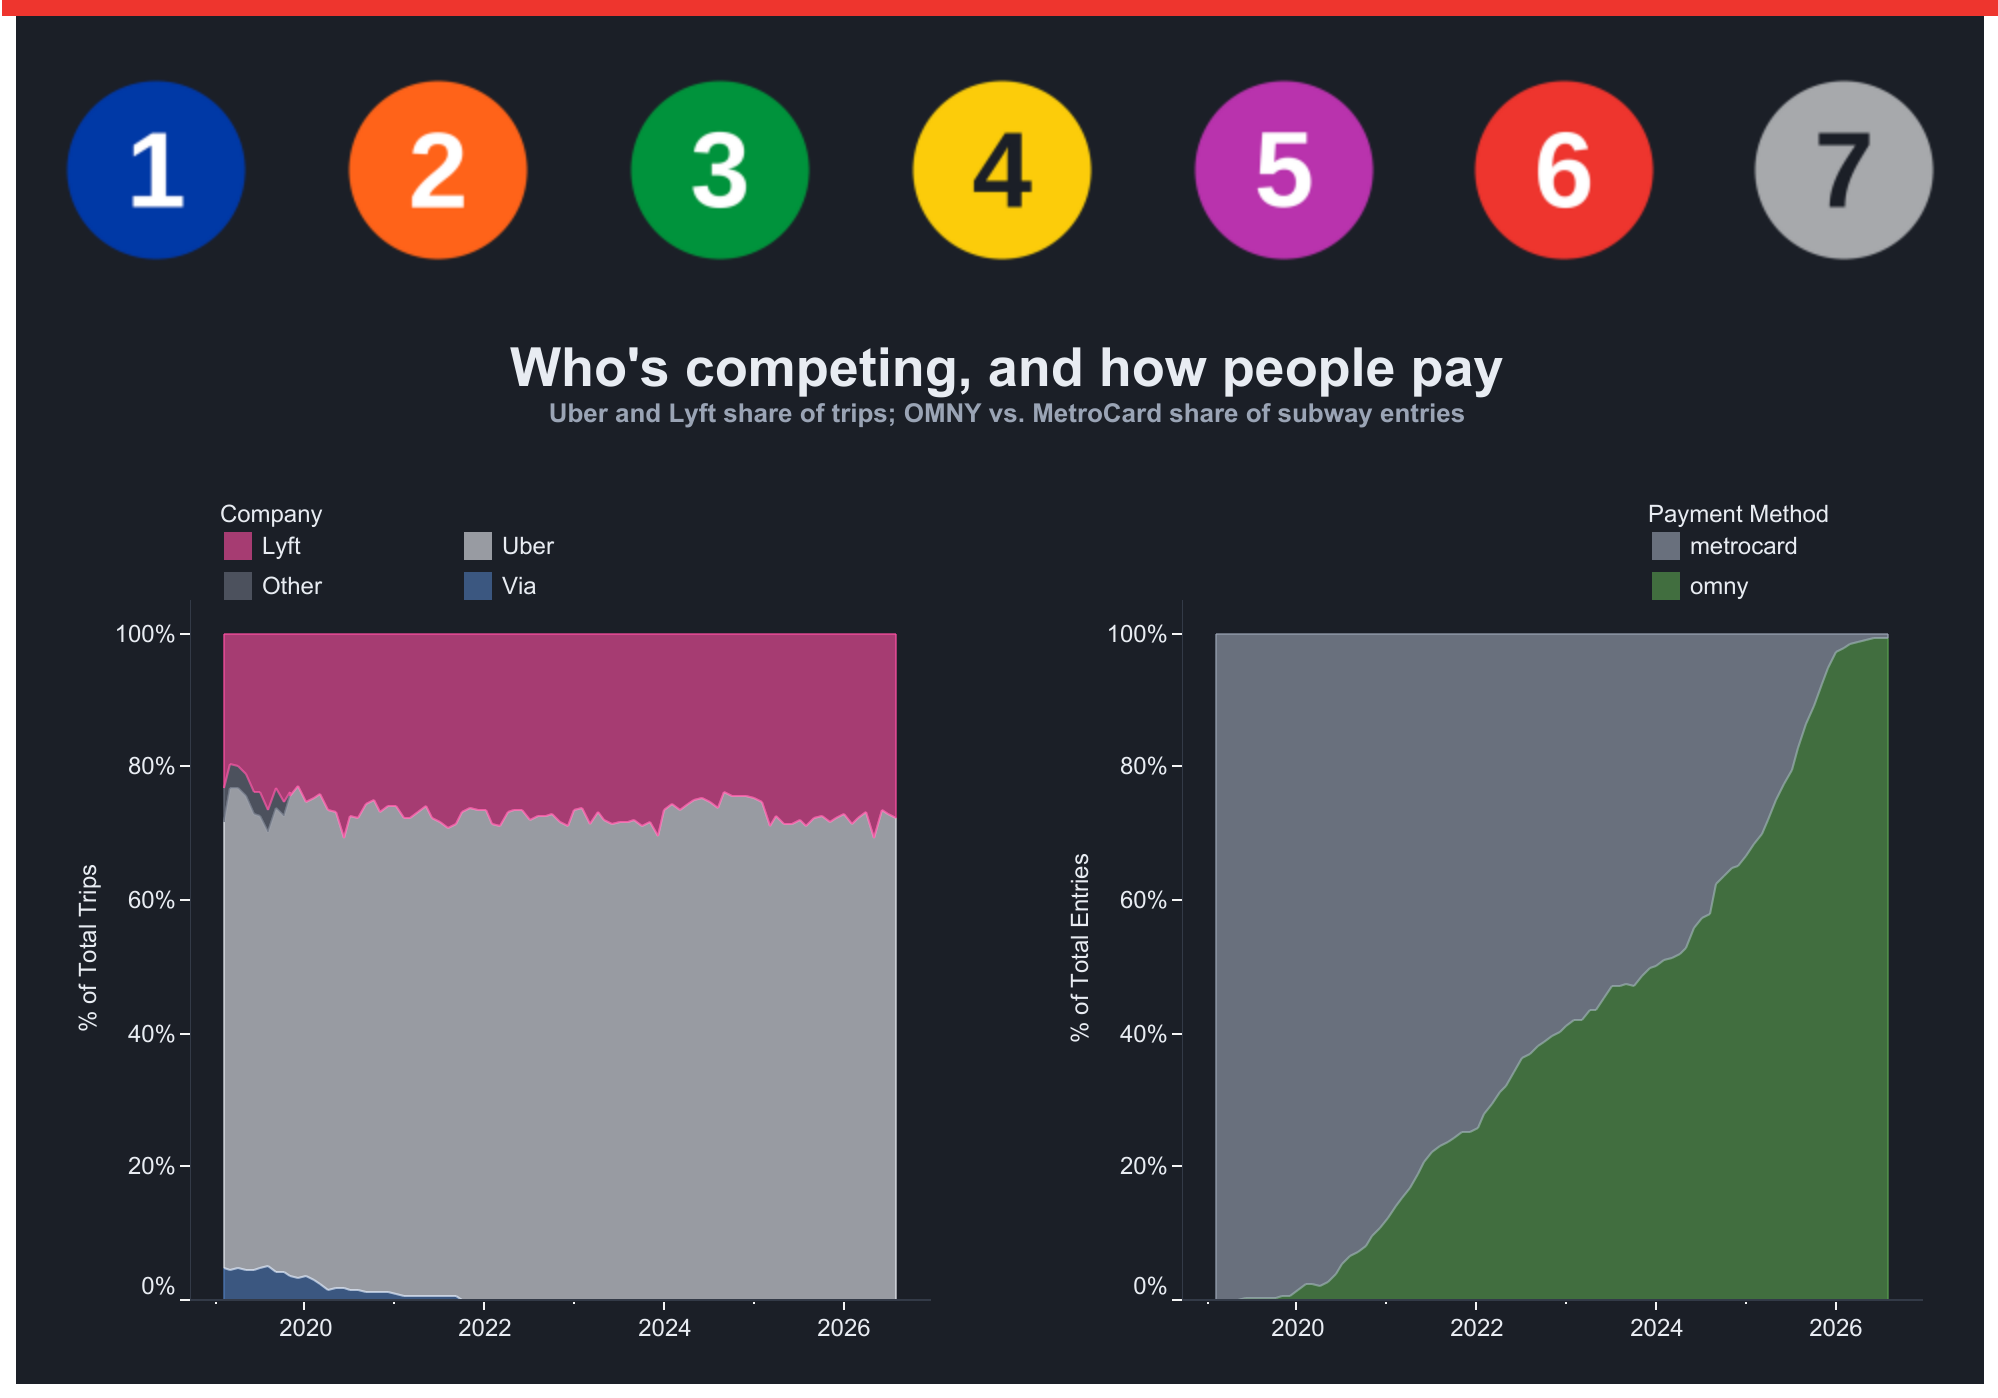

The page's visual inventory and layout, read from the dashboard file:
{"tool":"tableau","page":{"name":"Tap In","canvas":[1000,700],"ordinal":4},"visuals":[{"type":"blank","box":[1,0,1000,8]},{"type":"blank","box":[8,8,984,26.9]},{"type":"dashboard-object","box":[8,35,141,100]},{"type":"dashboard-object","box":[149,35,141,100]},{"type":"dashboard-object","box":[290,35,141,100]},{"type":"dashboard-object","box":[431,35,141,100]},{"type":"dashboard-object","box":[572,35,140,100]},{"type":"dashboard-object","box":[712,35,140,100]},{"type":"dashboard-object","box":[852,35,140,100]},{"type":"blank","box":[8,135,984,32]},{"type":"text","box":[235,155,537,71]},{"type":"legend","title":"Company Share","param":"[federated.1c13ln2029y75a19cfc2l1mu157n].[none:company:nk]","box":[109,248,256,60]},{"type":"legend","title":"Payment Adoption","param":"[federated.0u4vfz61mgl46i1ej9tpn1hby8bk].[none:payment_method:nk]","box":[823,248,119,60]},{"type":"worksheet","title":"Company Share","mark":"Area","cols":["ym"],"box":[30,300,435,380]},{"type":"worksheet","title":"Payment Adoption","mark":"Area","cols":["ym"],"box":[526,300,435,380]}]}

Visuals, with their boxes in screenshot pixels (x1, y1, x2, y2), scaled from the page's 1000x700 canvas onto the 1998x1398 screenshot:
blank: rect(2, 0, 1997, 16)
blank: rect(16, 16, 1982, 70)
dashboard-object: rect(16, 70, 298, 270)
dashboard-object: rect(298, 70, 579, 270)
dashboard-object: rect(579, 70, 861, 270)
dashboard-object: rect(861, 70, 1143, 270)
dashboard-object: rect(1143, 70, 1423, 270)
dashboard-object: rect(1423, 70, 1702, 270)
dashboard-object: rect(1702, 70, 1982, 270)
blank: rect(16, 270, 1982, 334)
text: rect(470, 310, 1542, 451)
"Company Share" legend: rect(218, 495, 729, 615)
"Payment Adoption" legend: rect(1644, 495, 1882, 615)
"Company Share" worksheet (Area marks): rect(60, 599, 929, 1358)
"Payment Adoption" worksheet (Area marks): rect(1051, 599, 1920, 1358)
